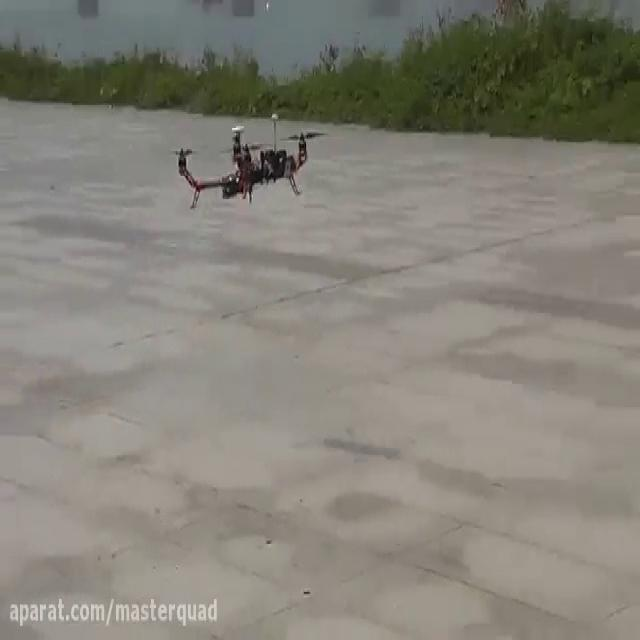drone: (159, 109, 332, 215)
